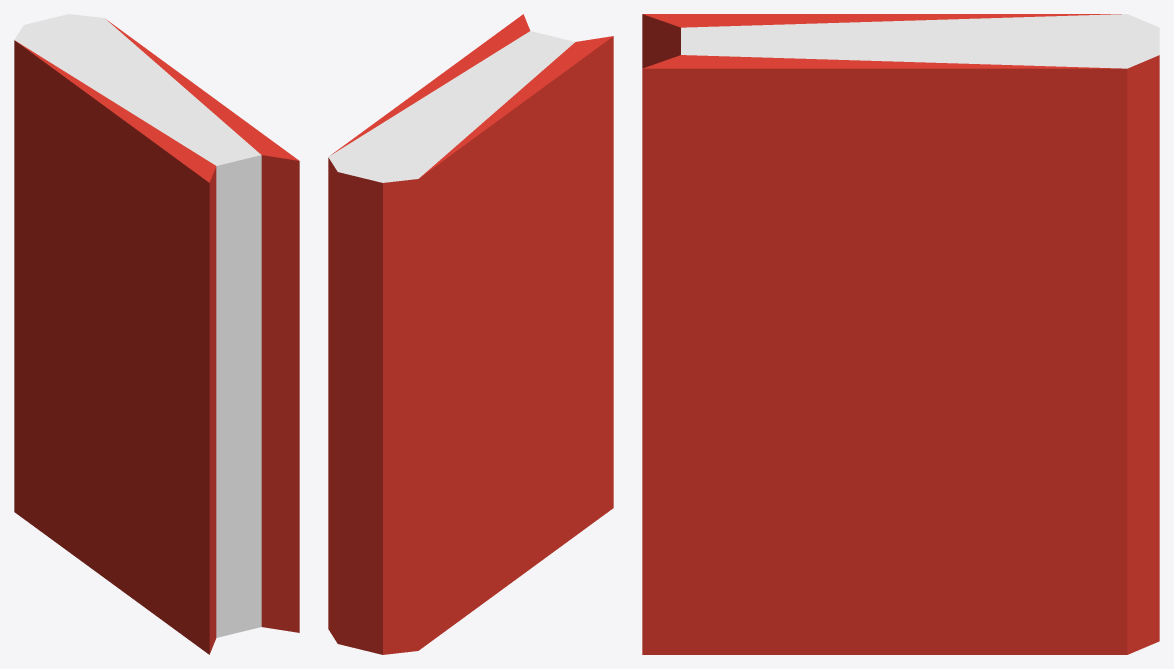
File: book.glb
The picture shows the model from 3 angles, left to right: view 1: azimuth 30°, elevation 25°; view 2: azimuth 150°, elevation 25°; view 3: azimuth 270°, elevation 25°; orthographic projection. The views are drawn at different scales.
Parts seen in each view (by area): view 1: group921219821; view 2: group921219821; view 3: group921219821.
Part boxes in pixels (bbox=[...]): group921219821: bbox=[14, 14, 299, 654]; group921219821: bbox=[328, 14, 613, 654]; group921219821: bbox=[642, 14, 1159, 654].
Size of the model in its own units: 0.0466 by 0.2331 by 0.1865.
